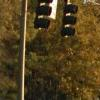traffic lights: (62, 0, 78, 40)
